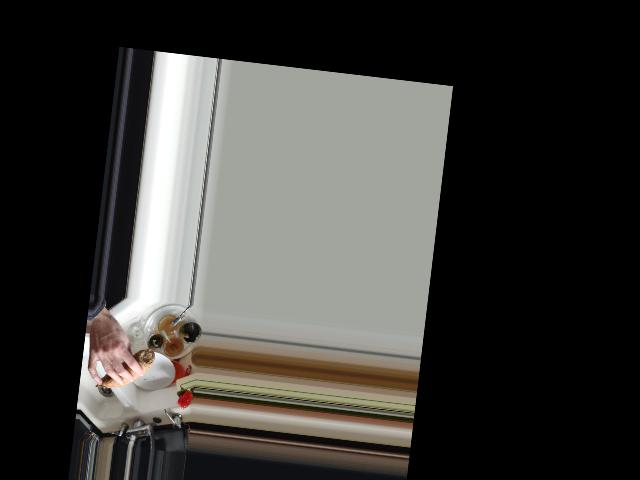sweet_potato: (94, 343, 153, 393)
